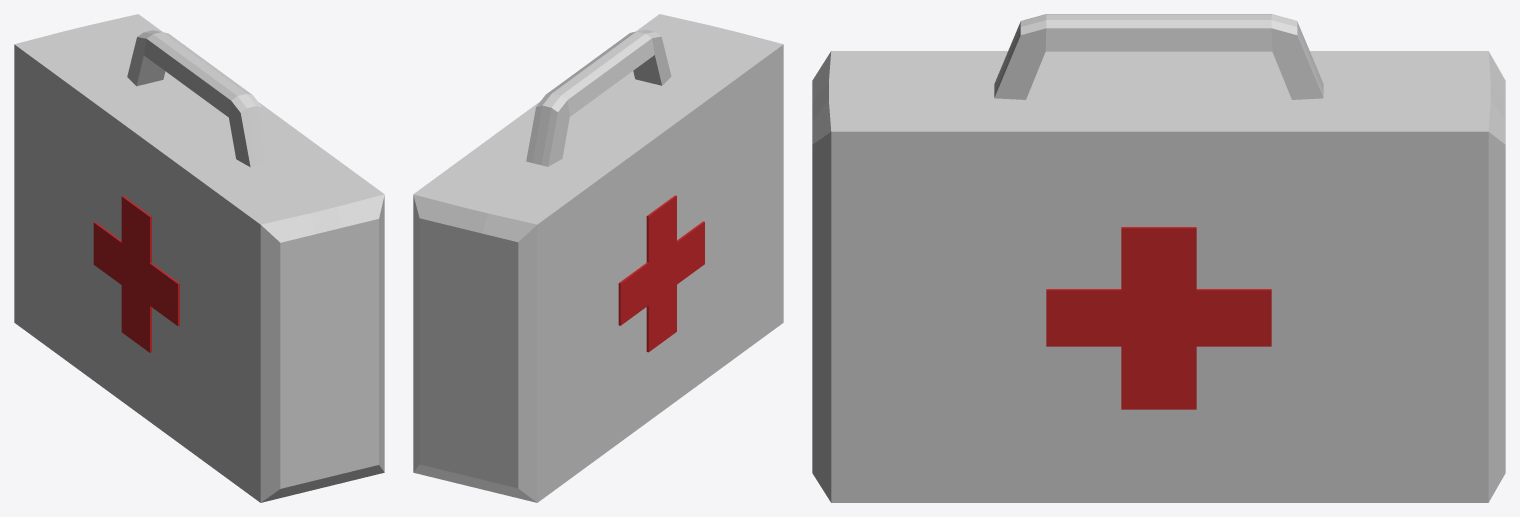
The model's file is first_aid_box.glb.
The picture shows the model from 3 angles, left to right: view 1: azimuth 30°, elevation 25°; view 2: azimuth 150°, elevation 25°; view 3: azimuth 270°, elevation 25°; orthographic projection. The views are drawn at different scales.
Visible parts, largest first — view 1: Object_2, Object_3; view 2: Object_2, Object_3; view 3: Object_2, Object_3.
Part boxes in pixels (x1,y1,x2,y2): Object_2: (14, 14, 384, 502); Object_3: (93, 196, 179, 352); Object_2: (413, 14, 783, 502); Object_3: (618, 195, 704, 352); Object_2: (812, 14, 1505, 502); Object_3: (1046, 227, 1271, 409).
Size of the model in its own units: 1.73 by 4.31 by 6.09.
